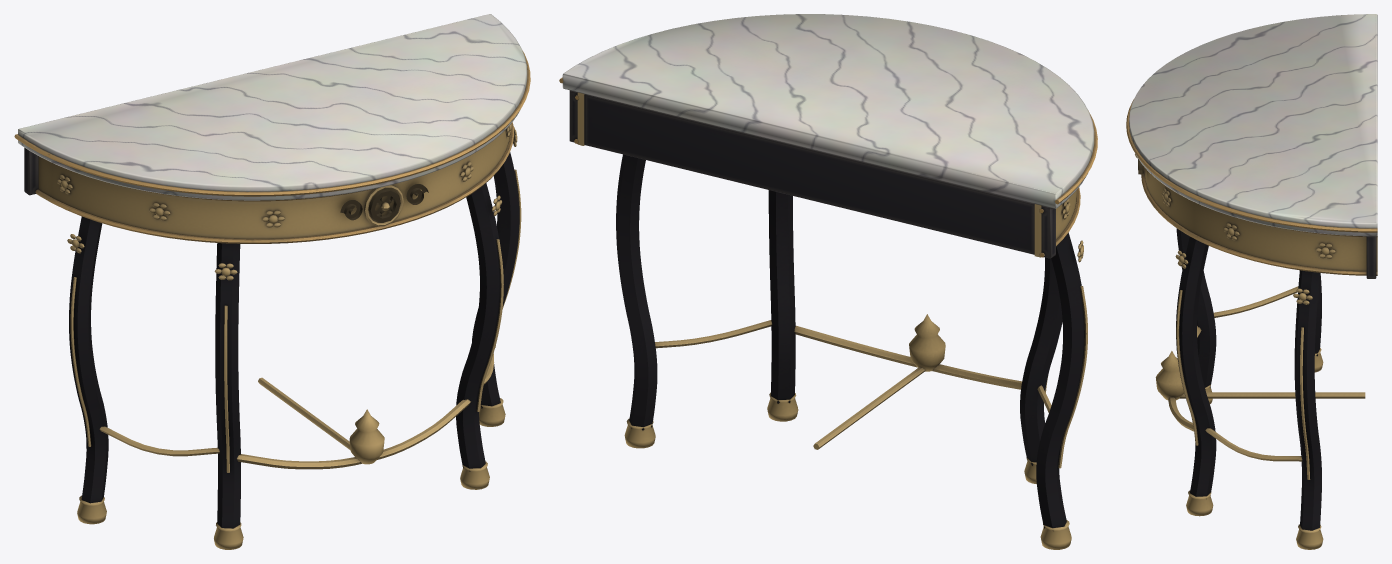
The model's file is TableDemilune.fbx.
The picture shows the model from 3 angles, left to right: view 1: azimuth 30°, elevation 25°; view 2: azimuth 150°, elevation 25°; view 3: azimuth 270°, elevation 25°; orthographic projection. The views are drawn at different scales.
Visible parts, largest first — view 1: TableDemilune; view 2: TableDemilune; view 3: TableDemilune.
Boxes of the visible parts, x1,y1,x2,y2 form: TableDemilune: (14,14,530,549); TableDemilune: (559,14,1097,549); TableDemilune: (1126,14,1377,549).
Bounding box in the file's own units: 405 × 300 × 202.
